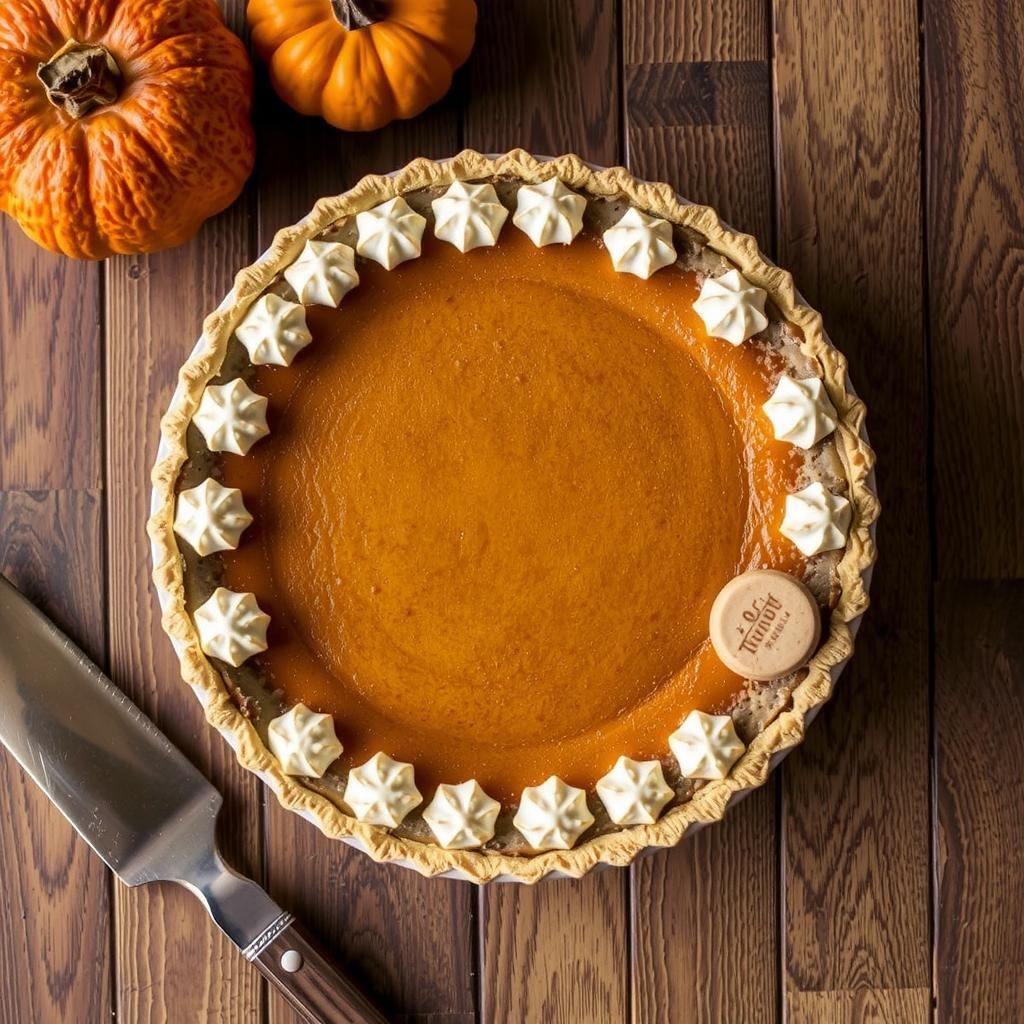pie: (141, 146, 889, 884)
